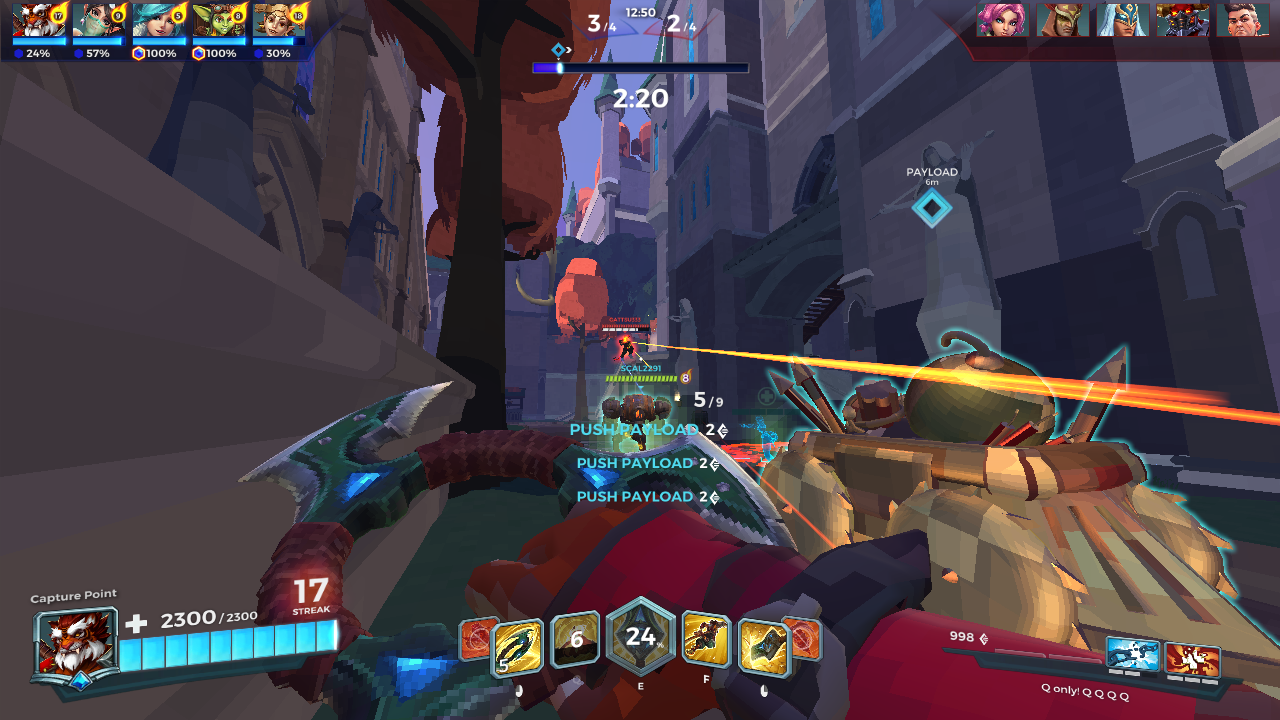model: (611, 334, 642, 365)
